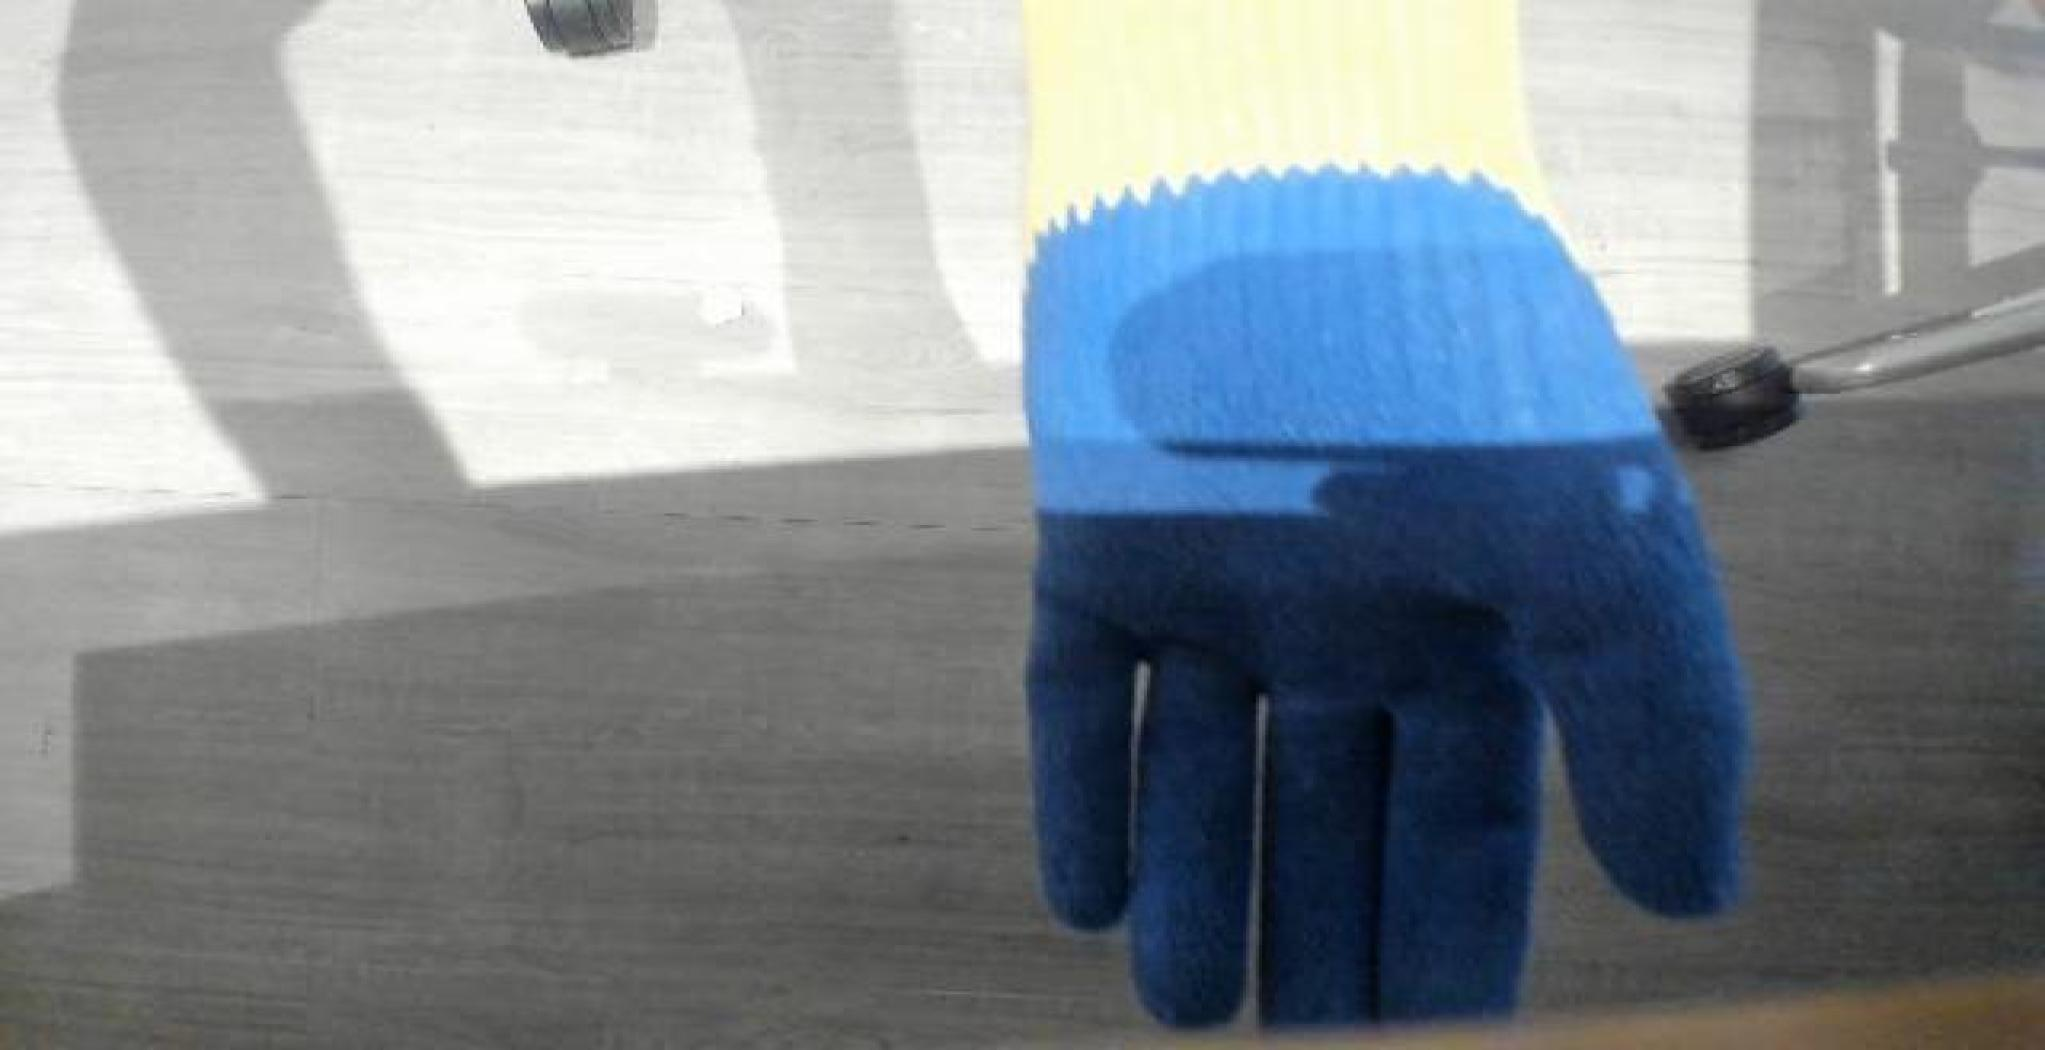gloved: (915, 0, 1807, 994)
